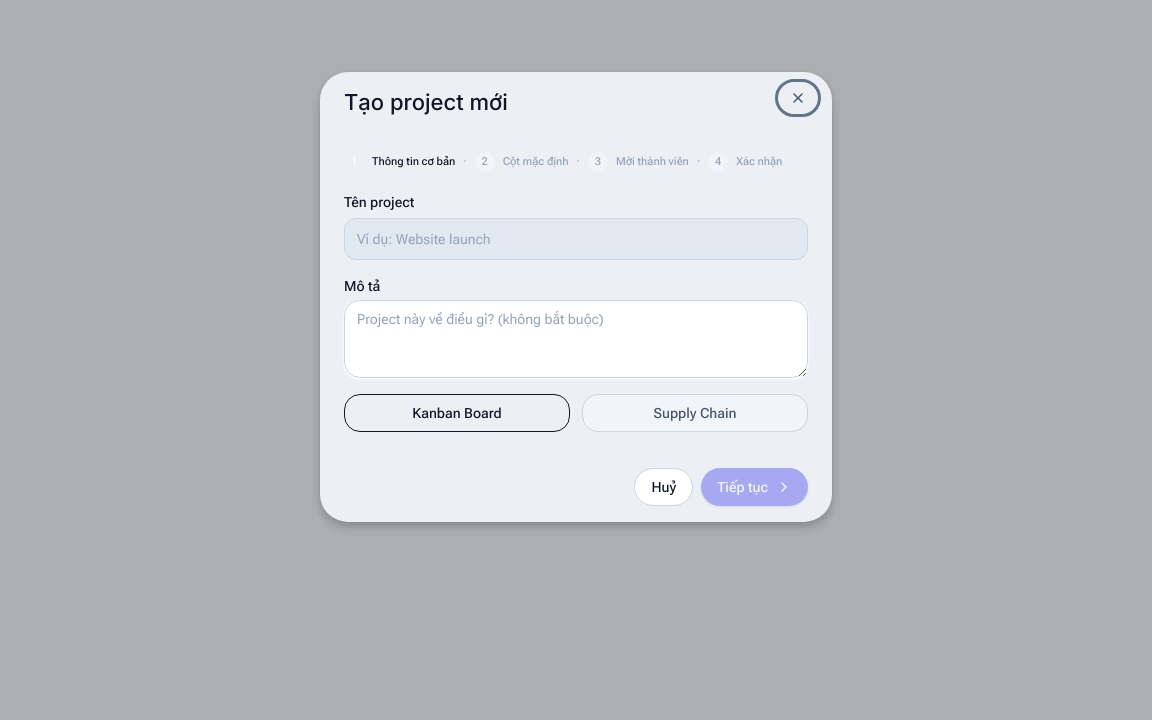
Test: CreateProjectWizard › can go back without losing entered data
Type "My board" into the field labelled "Tên project" at (576, 239), box [344,218,808,260]
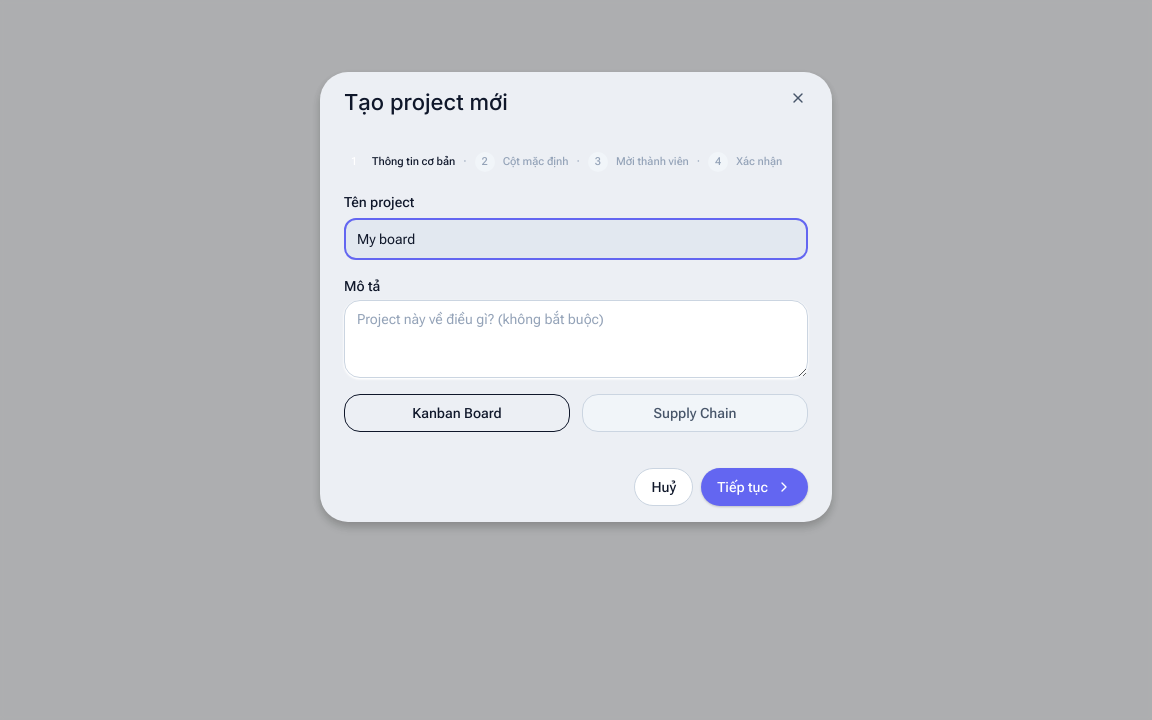
Click the button "Tiếp tục" at (755, 487), box [701,468,808,506]
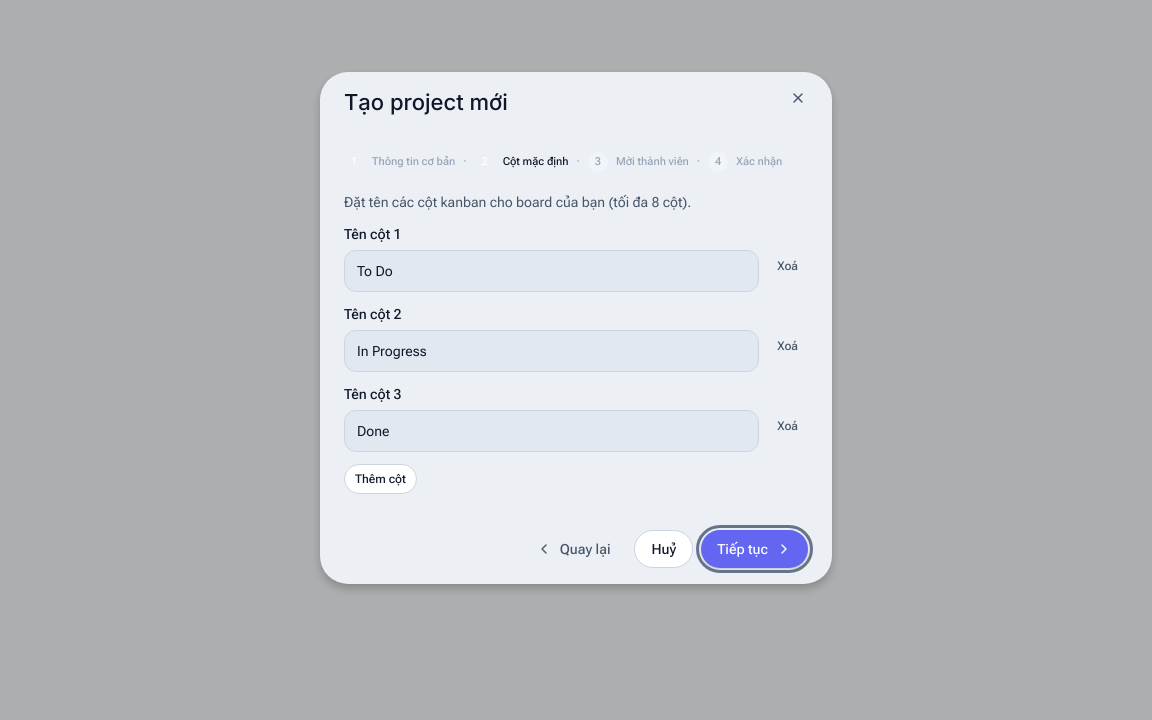
Click the button "Quay lại" at (573, 549), box [520,530,626,568]
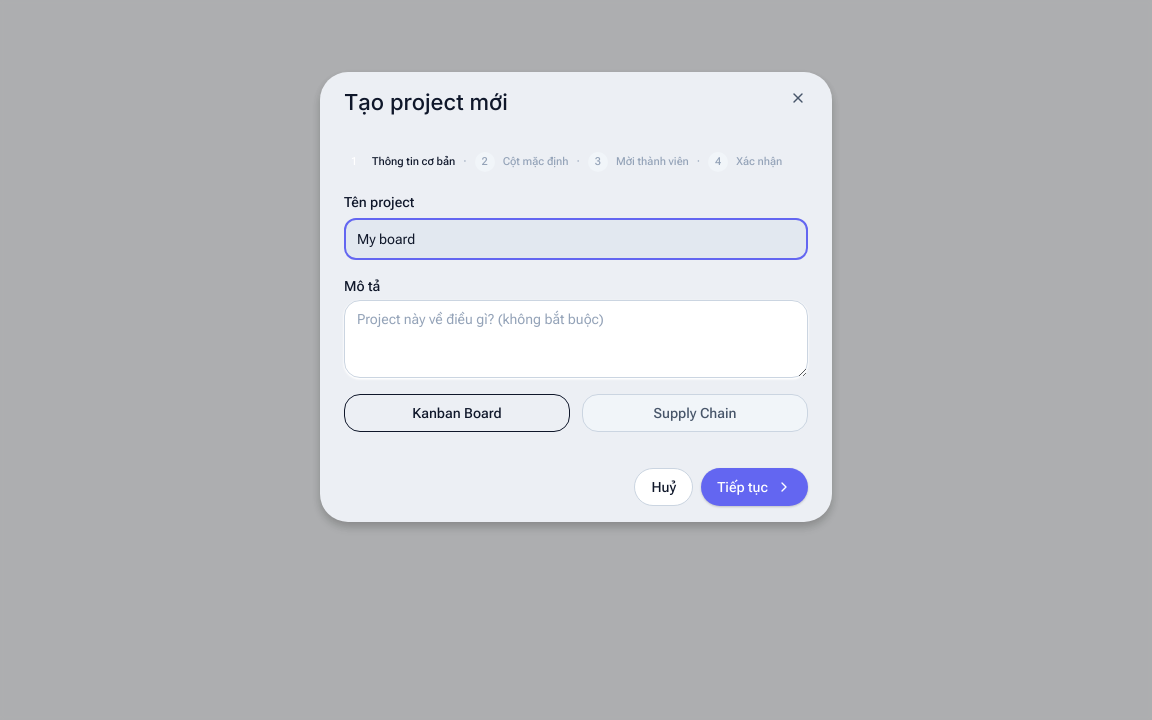
Check: the field labelled "Tên project" holds "My board", box [344,218,808,260]
